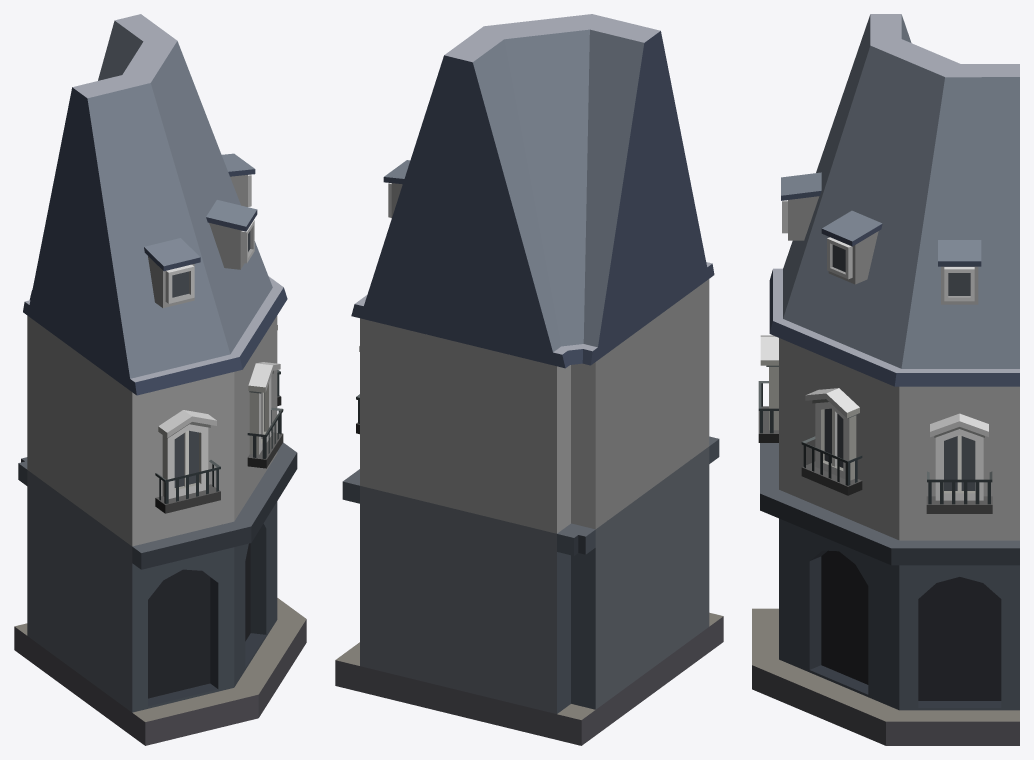
File: TB_CITY_BD_T_RCorner_2_A.FBX
The picture shows the model from 3 angles, left to right: view 1: azimuth 30°, elevation 25°; view 2: azimuth 150°, elevation 25°; view 3: azimuth 270°, elevation 25°; orthographic projection. The views are drawn at different scales.
Visible parts, largest first — view 1: TB_CITY_BD_T_RCorner_2_A; view 2: TB_CITY_BD_T_RCorner_2_A; view 3: TB_CITY_BD_T_RCorner_2_A.
Boxes of the visible parts, x1,y1,x2,y2 form: TB_CITY_BD_T_RCorner_2_A: (14, 14, 306, 745); TB_CITY_BD_T_RCorner_2_A: (335, 14, 723, 745); TB_CITY_BD_T_RCorner_2_A: (752, 14, 1019, 745).
Bounding box in the file's own units: 7.99 × 20.37 × 7.99.
